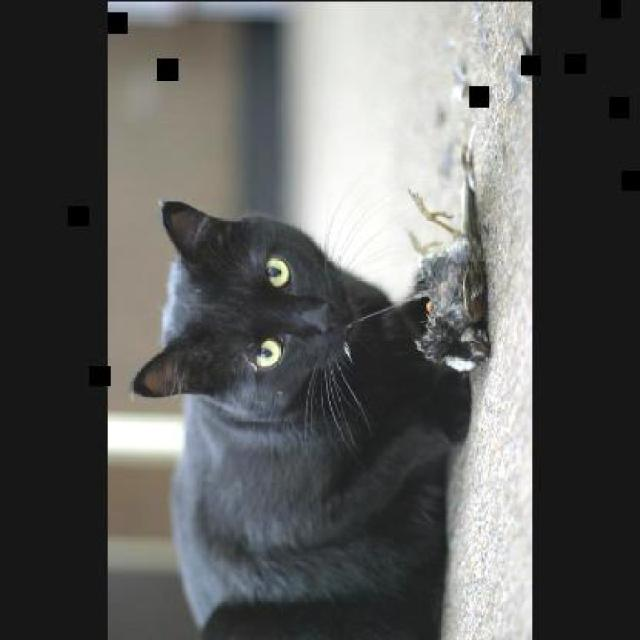unauthorized: (131, 196, 474, 638)
